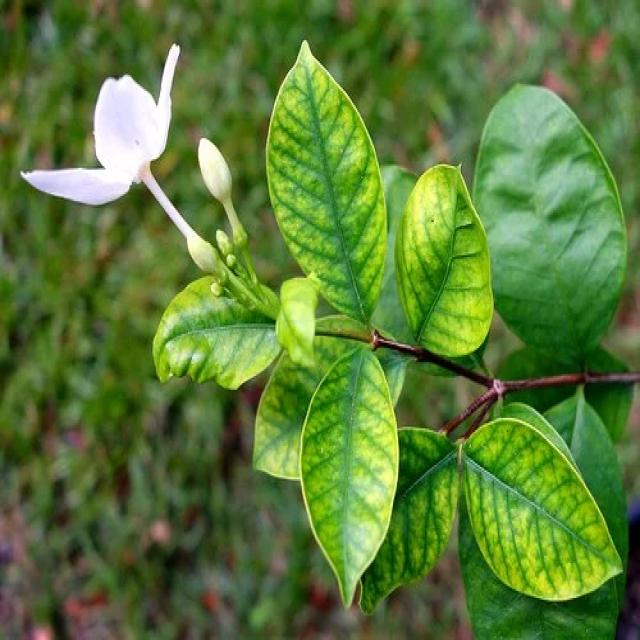Chlorosis: (255, 43, 581, 583)
